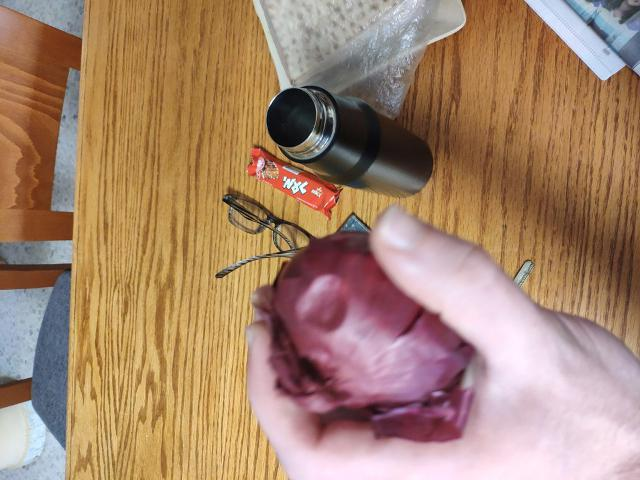onion: (272, 230, 472, 419)
